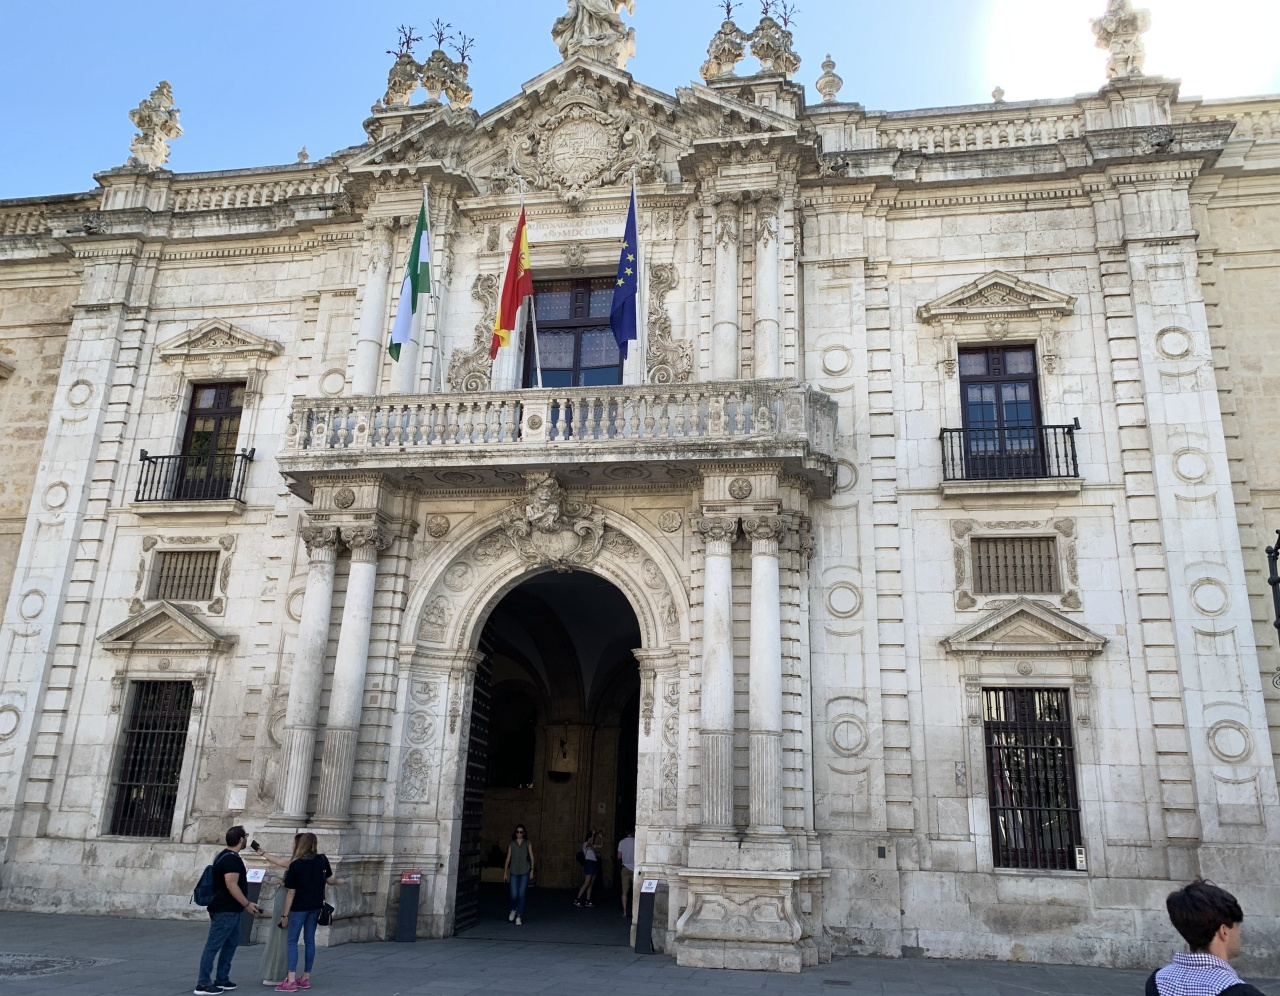arco-medio-punto: (454, 554, 664, 695)
fronton: (937, 599, 1112, 659), (914, 266, 1079, 322), (92, 597, 224, 656), (152, 315, 281, 364)
fronton-partido: (338, 53, 810, 190)
vano-adintelado: (483, 233, 642, 437), (951, 670, 1106, 877), (934, 322, 1069, 487), (87, 669, 214, 842), (157, 362, 262, 496)
